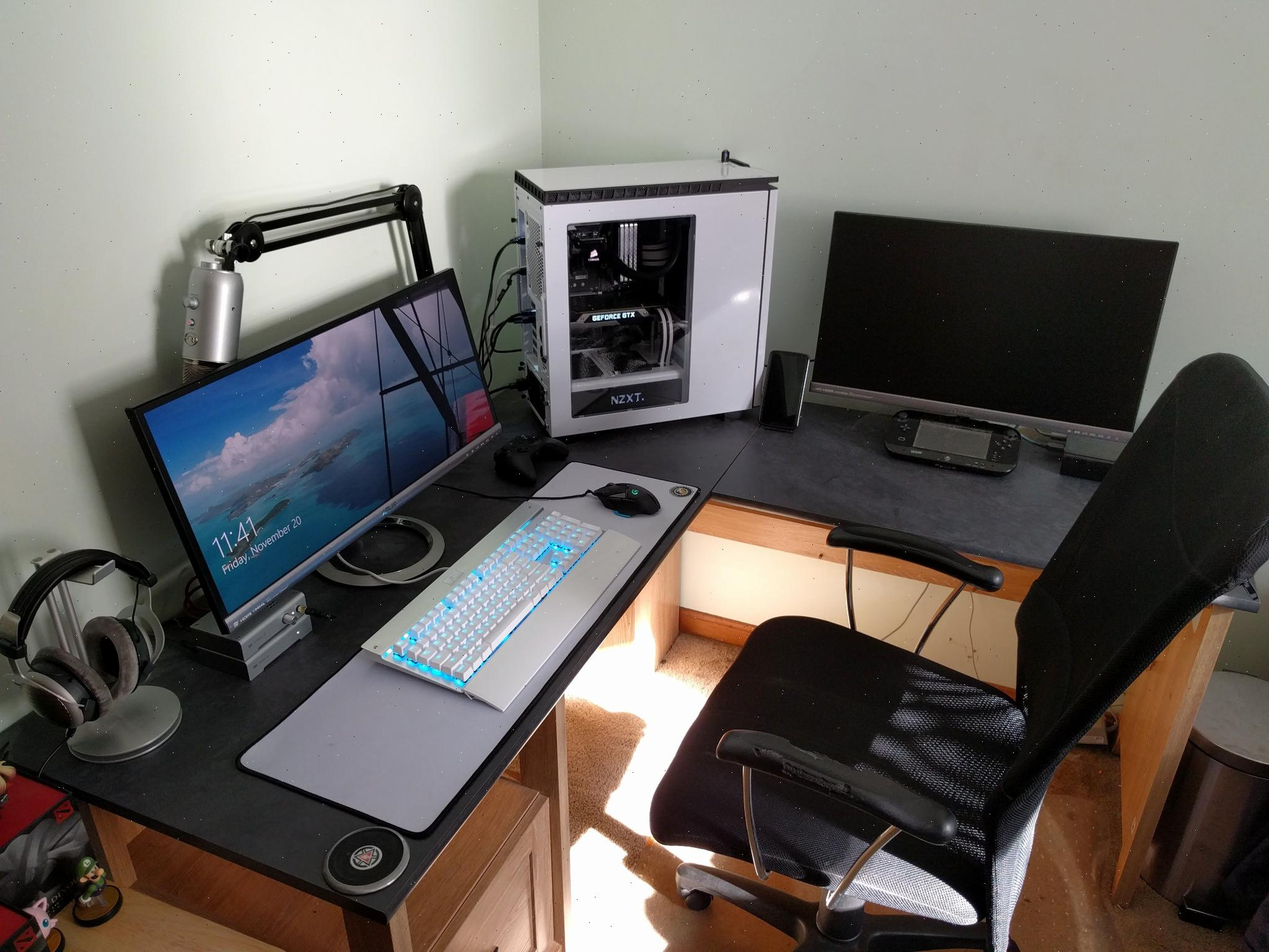head_phone: (0, 543, 174, 737)
keyboard: (357, 495, 642, 717)
mic: (169, 251, 250, 399)
mobile_phone: (759, 345, 815, 438)
monitor: (113, 259, 508, 646), (804, 196, 1190, 452)
mouse: (587, 473, 662, 522)
pc: (499, 143, 770, 442)
